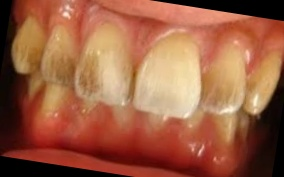Tooth Discoloration: (6, 29, 111, 101), (196, 40, 274, 120)
